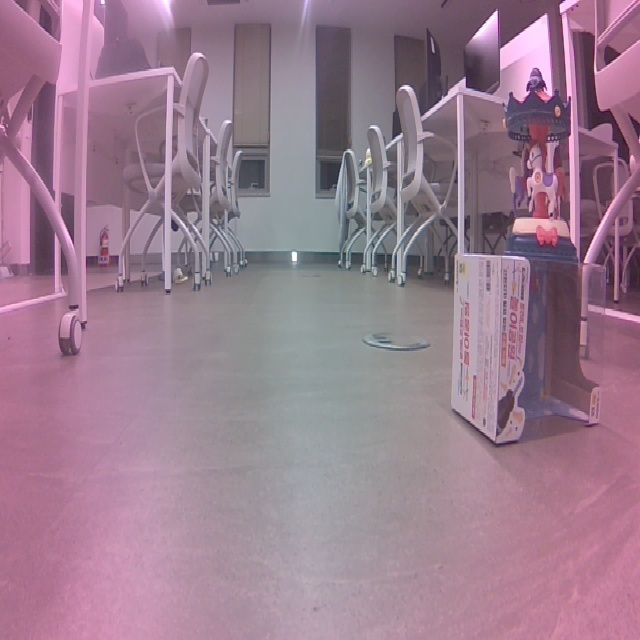목적지: (499, 64, 582, 260)
